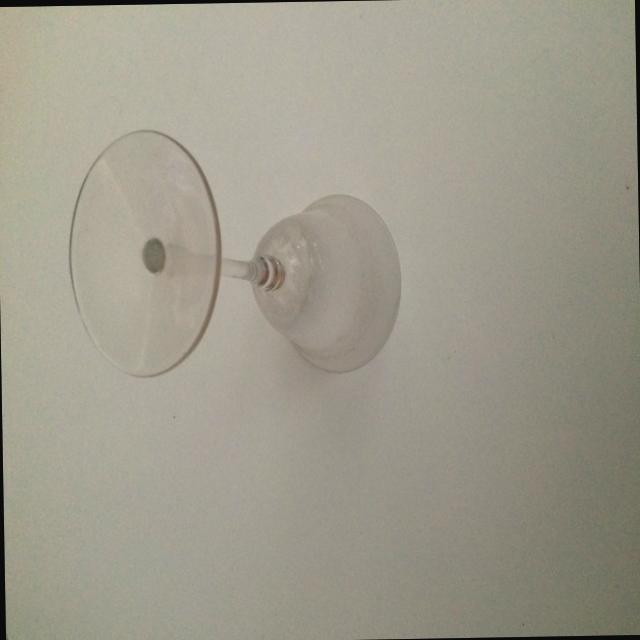Glass: (50, 110, 412, 410)
